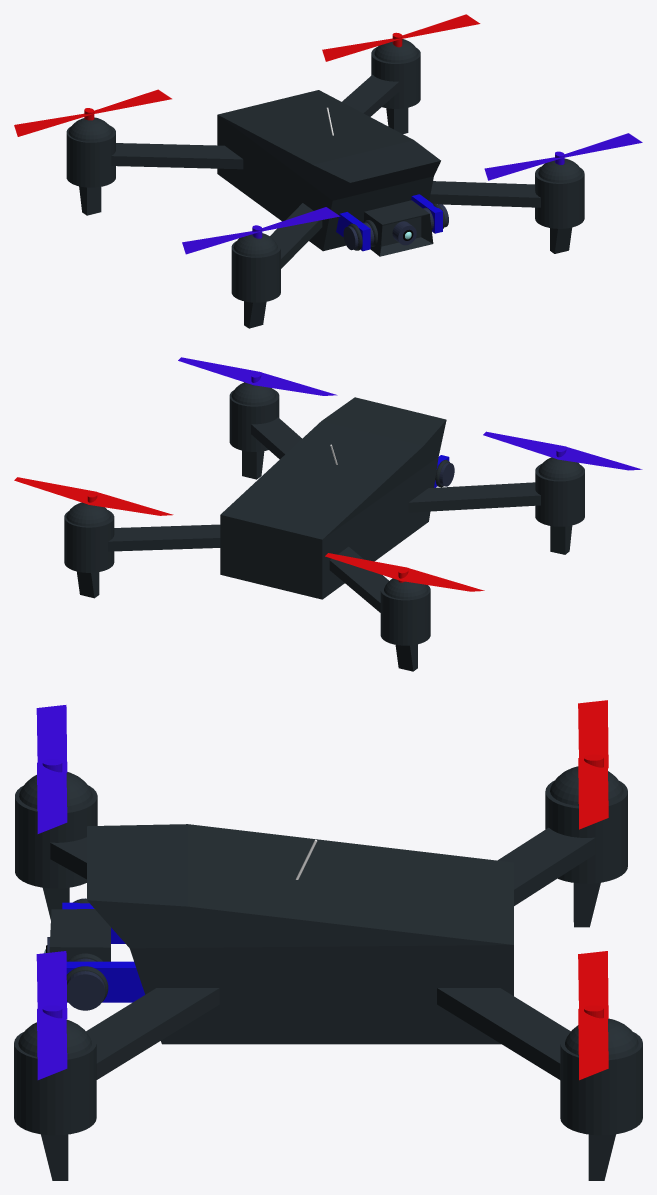
The model's file is drone.glb.
3 views of the same model, one above another, from view 1: azimuth 30°, elevation 25°; view 2: azimuth 150°, elevation 25°; view 3: azimuth 270°, elevation 25° (orthographic). The views are drawn at different scales.
Visible parts, largest first — view 1: Cube.003, Cube.010, Cube.004, Cylinder.006, Cylinder.007, Cylinder.004, Cube, Cylinder.005, Plane.002, Plane.003, Plane.001, Plane.004 (+12 smaller); view 2: Cube.003, Cube.008, Cube.006, Cylinder.007, Cylinder.005, Cylinder.006, Cylinder.004, Plane.004, Cube.010, Plane.002, Plane.003, Plane.001 (+9 smaller); view 3: Cube.003, Cylinder.004, Cylinder.005, Cube.006, Cube.004, Cylinder.006, Cylinder.007, Plane.002, Plane.004, Plane.003, Plane.001, Cube.010 (+11 smaller).
Part boxes in pixels (x1,y1,x2,y2): Cube.003: [217, 90, 440, 251]; Cube.010: [111, 143, 243, 169]; Cube.004: [429, 181, 540, 207]; Cylinder.006: [231, 240, 280, 302]; Cylinder.007: [66, 125, 115, 187]; Cylinder.004: [535, 166, 584, 228]; Cube: [363, 200, 433, 256]; Cylinder.005: [371, 47, 420, 108]; Plane.002: [322, 14, 480, 61]; Plane.003: [182, 207, 340, 254]; Plane.001: [484, 133, 642, 180]; Plane.004: [14, 89, 171, 136]; Cube.003: [220, 397, 446, 599]; Cube.008: [408, 482, 540, 512]; Cube.006: [108, 524, 220, 551]; Cylinder.007: [380, 582, 430, 645]; Cylinder.005: [64, 510, 114, 572]; Cylinder.006: [535, 464, 584, 526]; Cylinder.004: [229, 389, 279, 451]; Plane.004: [325, 553, 484, 591]; Cube.010: [329, 546, 388, 612]; Plane.002: [14, 477, 173, 515]; Plane.003: [483, 431, 642, 470]; Plane.001: [178, 357, 337, 395]; Cube.003: [87, 824, 513, 1044]; Cylinder.004: [14, 1031, 96, 1135]; Cylinder.005: [560, 1031, 642, 1135]; Cube.006: [437, 988, 570, 1079]; Cube.004: [86, 988, 219, 1079]; Cylinder.006: [15, 785, 97, 888]; Cylinder.007: [545, 780, 627, 883]; Plane.002: [578, 951, 608, 1080]; Plane.004: [578, 700, 608, 829]; Plane.003: [36, 705, 67, 833]; Plane.001: [36, 951, 67, 1079]; Cube.010: [497, 827, 595, 905].
Size of the model in its own units: 25.87 by 6.67 by 18.24.
